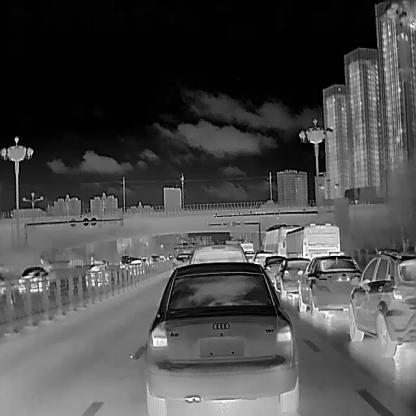car: (144, 261, 298, 414), (348, 251, 415, 356), (298, 254, 361, 316), (283, 222, 339, 256), (274, 257, 310, 297), (261, 223, 301, 253), (17, 266, 50, 293), (84, 260, 113, 286), (125, 258, 143, 276)
